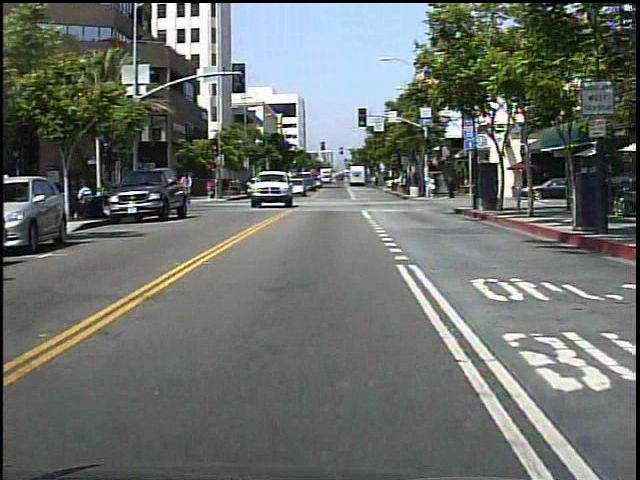person: (177, 170, 198, 203), (446, 172, 461, 204), (427, 176, 439, 200), (208, 176, 217, 200)
